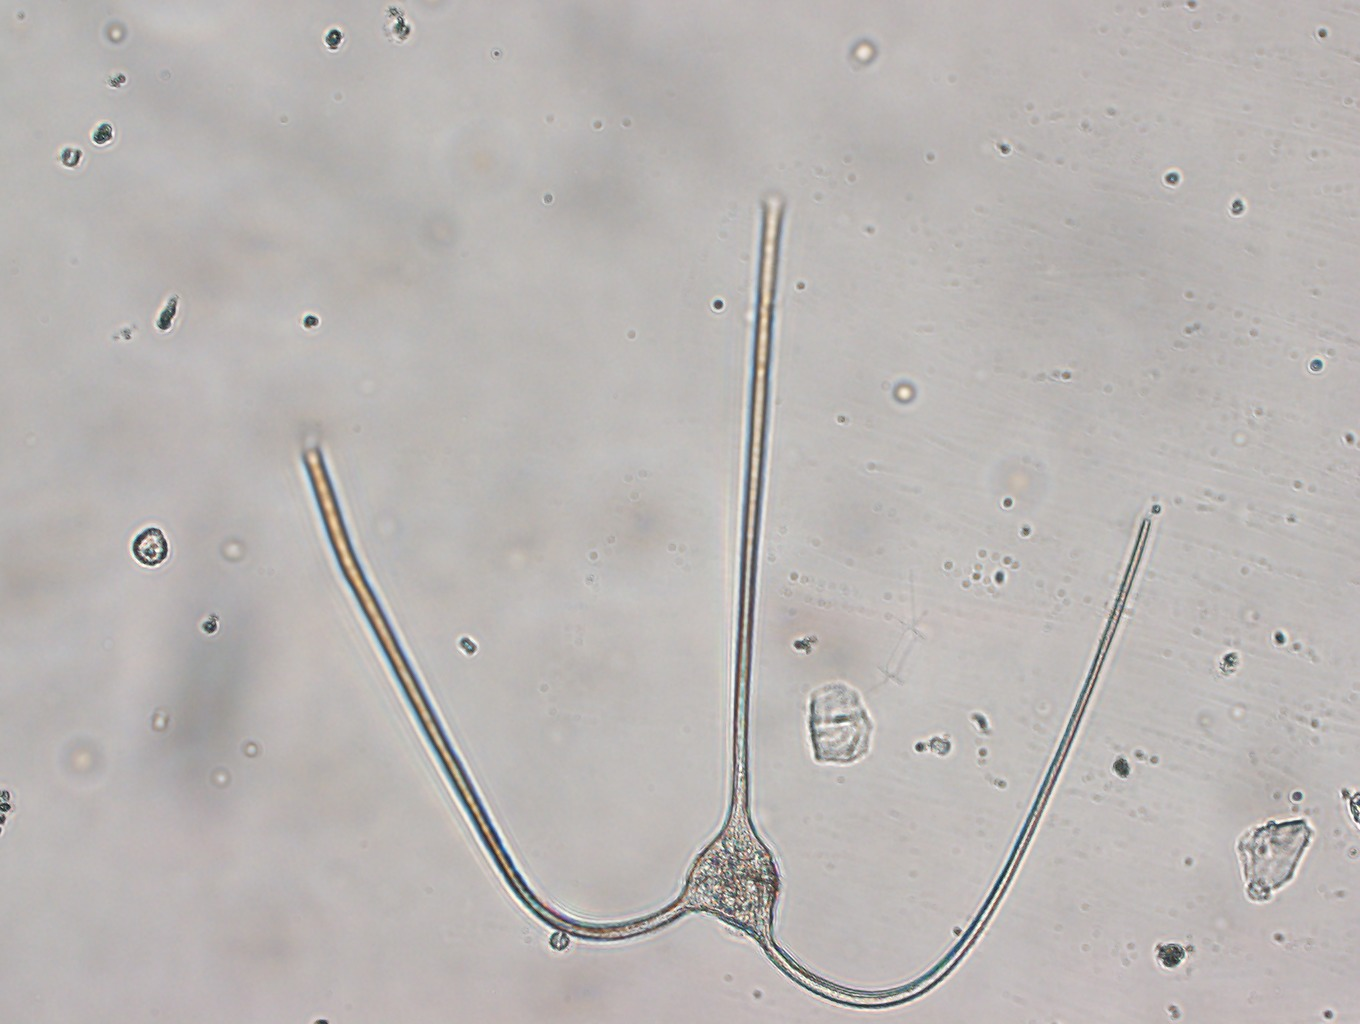ceratium trichoceros: (287, 173, 1153, 1012)
